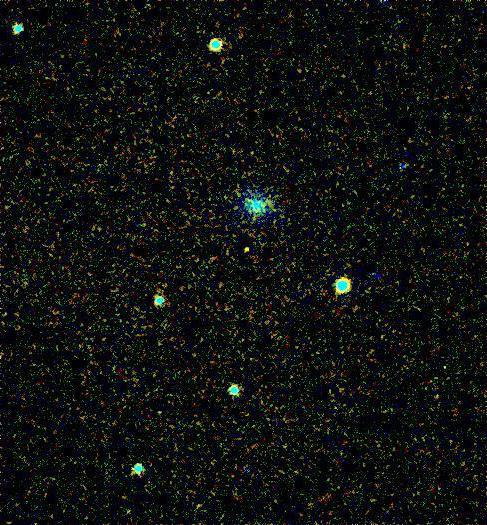star: (233, 235, 263, 265)
